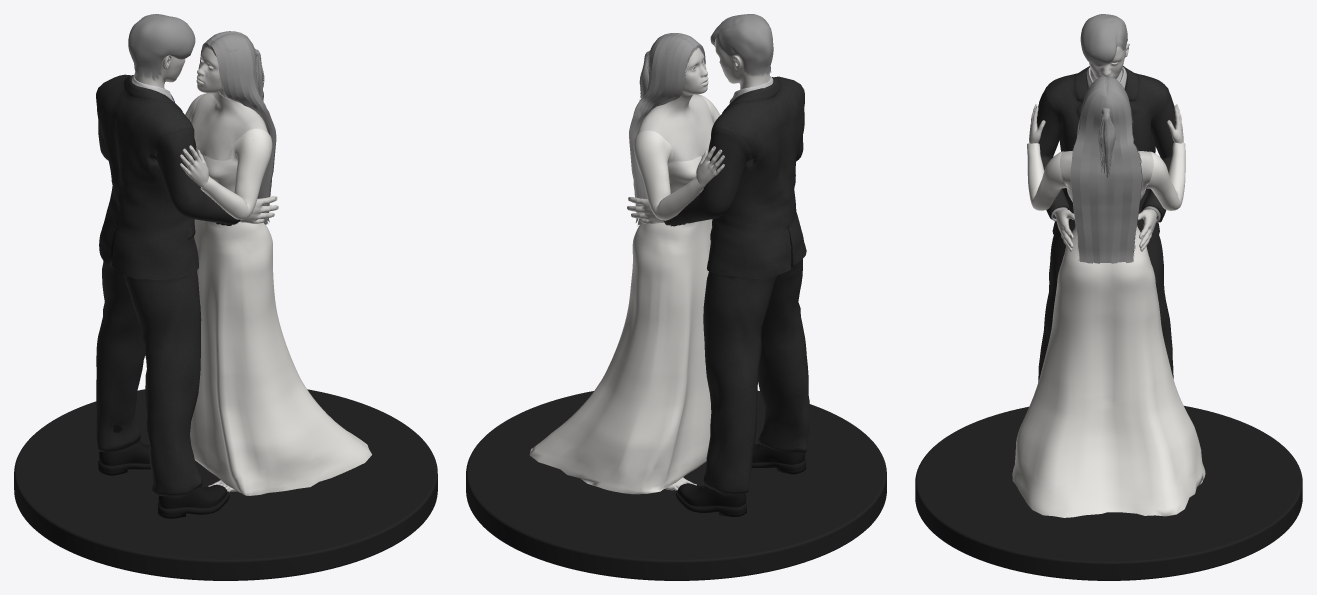
File: MYBI_Wedding_Final.glb
3 renders of one model, left to right at view 1: azimuth 30°, elevation 25°; view 2: azimuth 150°, elevation 25°; view 3: azimuth 270°, elevation 25°, orthographic. The views are drawn at different scales.
Visible parts, largest first — view 1: MYBI_Wedding_Base_Web, Human.male_elegantsuit01_Web, Human.mindfront_f_dress_09_Web, Human.001_Web, Human.long01_Web, Human.short03_Web, Human.shoes03_Web, Human_Web; view 2: MYBI_Wedding_Base_Web, Human.male_elegantsuit01_Web, Human.mindfront_f_dress_09_Web, Human.001_Web, Human.long01_Web, Human.shoes03_Web, Human.short03_Web, Human_Web; view 3: Human.mindfront_f_dress_09_Web, MYBI_Wedding_Base_Web, Human.male_elegantsuit01_Web, Human.long01_Web, Human.short03_Web, Human_Web, Human.001_Web, Human.ponytail01_Web.
Part boxes in pixels (x1=…): MYBI_Wedding_Base_Web: x1=14, y1=389, x2=437, y2=580; Human.male_elegantsuit01_Web: x1=96, y1=74, x2=240, y2=496; Human.mindfront_f_dress_09_Web: x1=185, y1=93, x2=371, y2=495; Human.001_Web: x1=180, y1=47, x2=268, y2=492; Human.long01_Web: x1=200, y1=31, x2=276, y2=224; Human.short03_Web: x1=128, y1=14, x2=195, y2=80; Human.shoes03_Web: x1=98, y1=425, x2=229, y2=518; Human_Web: x1=134, y1=55, x2=278, y2=223; MYBI_Wedding_Base_Web: x1=466, y1=390, x2=886, y2=580; Human.male_elegantsuit01_Web: x1=663, y1=76, x2=810, y2=494; Human.mindfront_f_dress_09_Web: x1=530, y1=94, x2=720, y2=494; Human.001_Web: x1=636, y1=48, x2=724, y2=490; Human.long01_Web: x1=629, y1=33, x2=705, y2=225; Human.shoes03_Web: x1=675, y1=443, x2=806, y2=516; Human.short03_Web: x1=710, y1=14, x2=773, y2=76; Human_Web: x1=627, y1=37, x2=770, y2=224; Human.mindfront_f_dress_09_Web: x1=1012, y1=142, x2=1205, y2=517; MYBI_Wedding_Base_Web: x1=915, y1=406, x2=1302, y2=580; Human.male_elegantsuit01_Web: x1=1037, y1=66, x2=1175, y2=382; Human.long01_Web: x1=1070, y1=76, x2=1142, y2=263; Human.short03_Web: x1=1080, y1=14, x2=1127, y2=66; Human_Web: x1=1054, y1=43, x2=1157, y2=251; Human.001_Web: x1=1029, y1=104, x2=1183, y2=189; Human.ponytail01_Web: x1=1089, y1=79, x2=1122, y2=177.
Bounding box in the file's own units: 1.43 × 1.83 × 1.43.
Materials: 8 (2 with a texture image).
